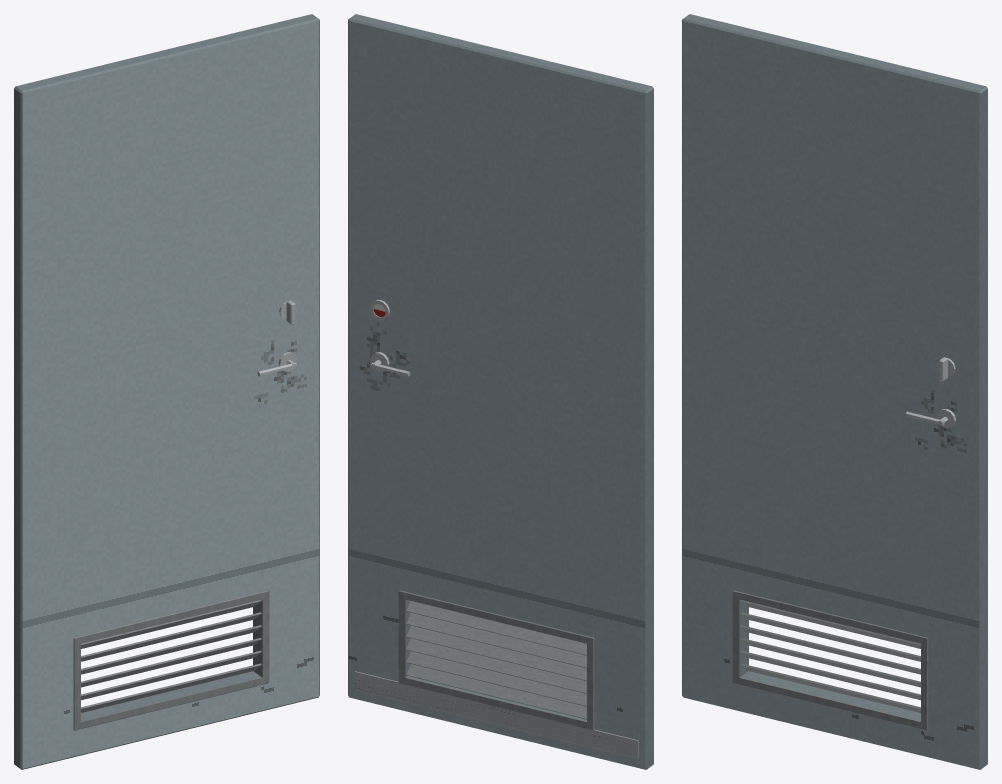
Rendered from door_wc_2.glb.
3 views of the same model, side by side, from view 1: azimuth 30°, elevation 25°; view 2: azimuth 150°, elevation 25°; view 3: azimuth 330°, elevation 25° (orthographic).
Parts seen in each view (by area): view 1: leaf_body, grille_slats, grille_frame_front; view 2: leaf_body, grille_slats, kick_plate, grille_frame_back; view 3: leaf_body, grille_slats, grille_frame_front.
Boxes of the visible parts, x1,y1,x2,y2 form: leaf_body: [14, 14, 319, 769]; grille_slats: [81, 600, 261, 712]; grille_frame_front: [73, 590, 269, 730]; leaf_body: [348, 14, 653, 769]; grille_slats: [406, 601, 586, 719]; kick_plate: [354, 671, 638, 758]; grille_frame_back: [398, 590, 594, 730]; leaf_body: [682, 14, 987, 769]; grille_slats: [740, 600, 920, 712]; grille_frame_front: [732, 590, 928, 730].
Bounding box in the file's own units: 0.95 × 2.06 × 0.1217.
Materials: 1 (1 with a texture image).
